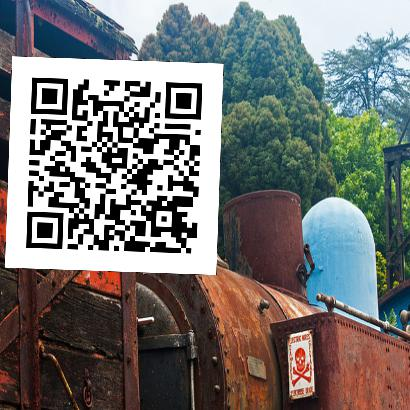qr_code: (5, 56, 223, 274)
